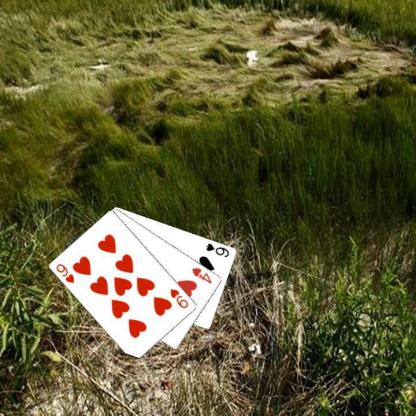4H: (190, 265, 213, 285)
6S: (204, 240, 231, 258)
9H: (167, 286, 190, 310), (54, 261, 76, 284)
